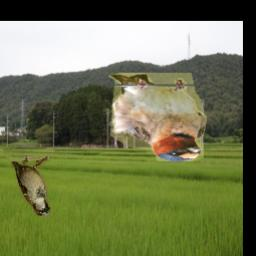Sparrow: (10, 156, 50, 216)
Swallow: (108, 74, 207, 162)
